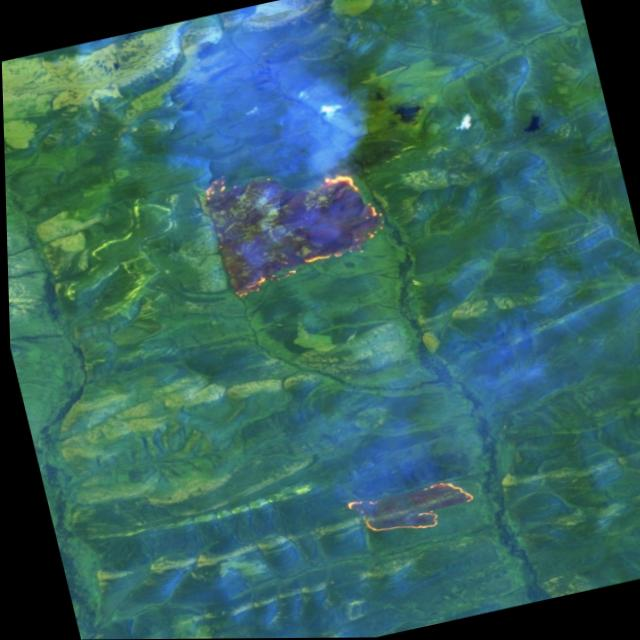fire: (193, 143, 394, 302), (337, 469, 481, 548)
